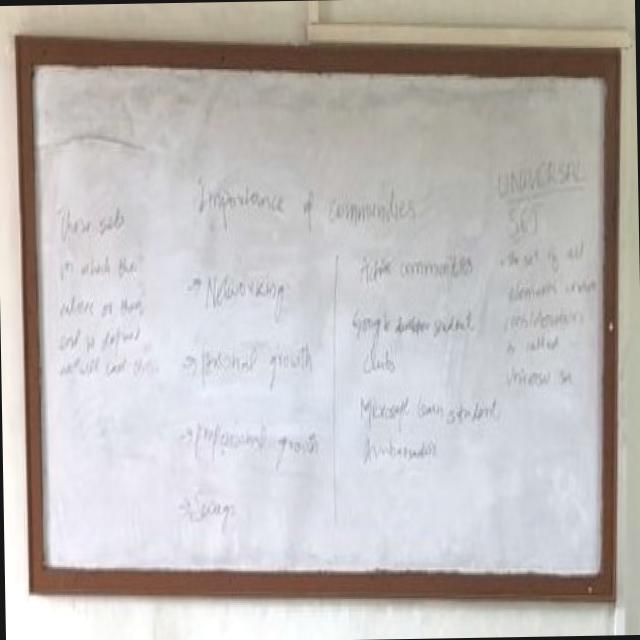White-board: (25, 51, 617, 591)
